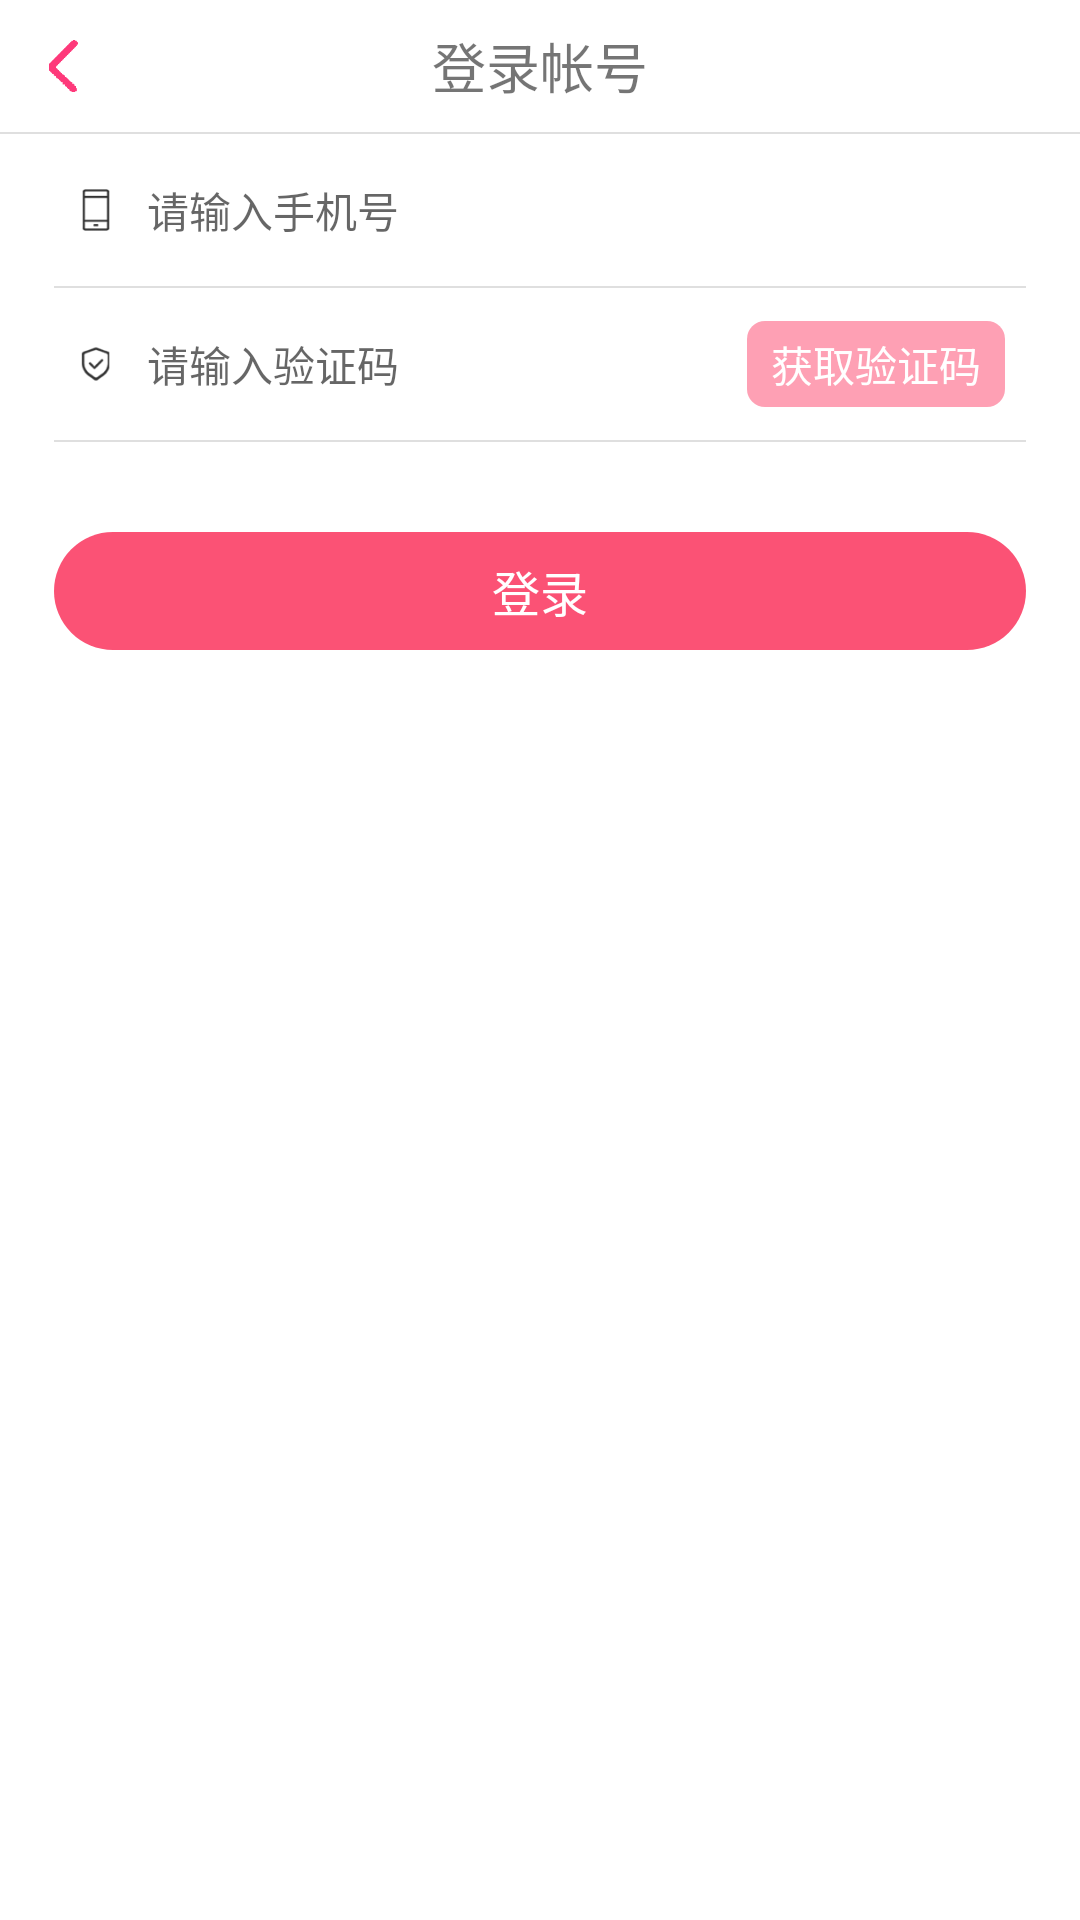

Icons on this 1080w x 1920h Android screen, each with its box as (x1, y1, x2, y2):
left arrow: (49, 40, 78, 92)
phone input: (82, 189, 110, 231)
psw input: (81, 347, 110, 381)
